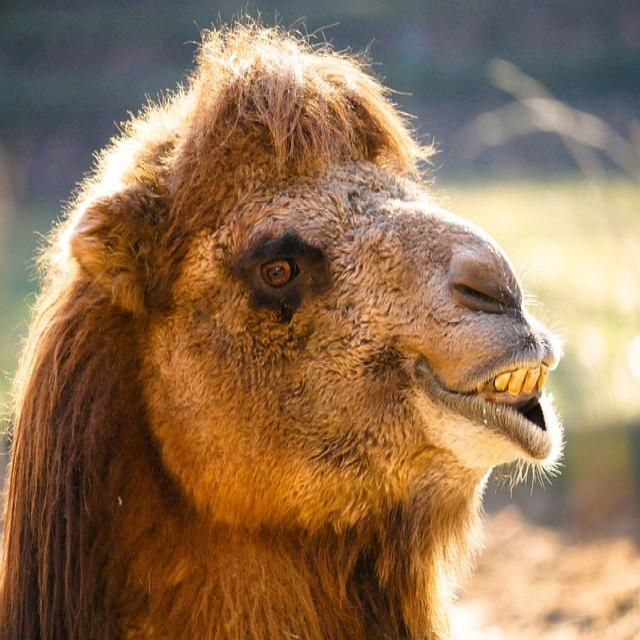Herbivorous: (0, 17, 565, 640)
